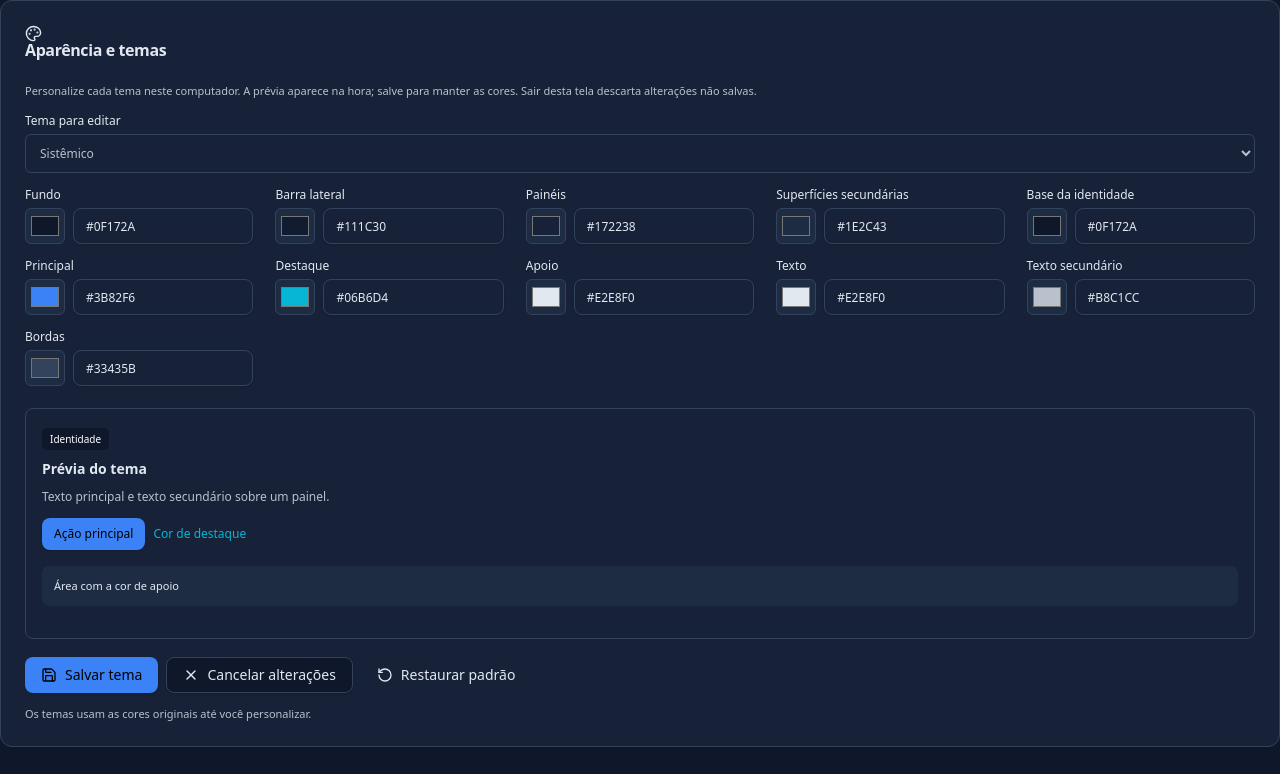
avisa contraste baixo e não afirma salvamento se o armazenamento falhar
Replace the text in the field named "Texto (HEX)" with "#172238" at (914,297), box top-left (824, 279), bottom-right (1005, 315)
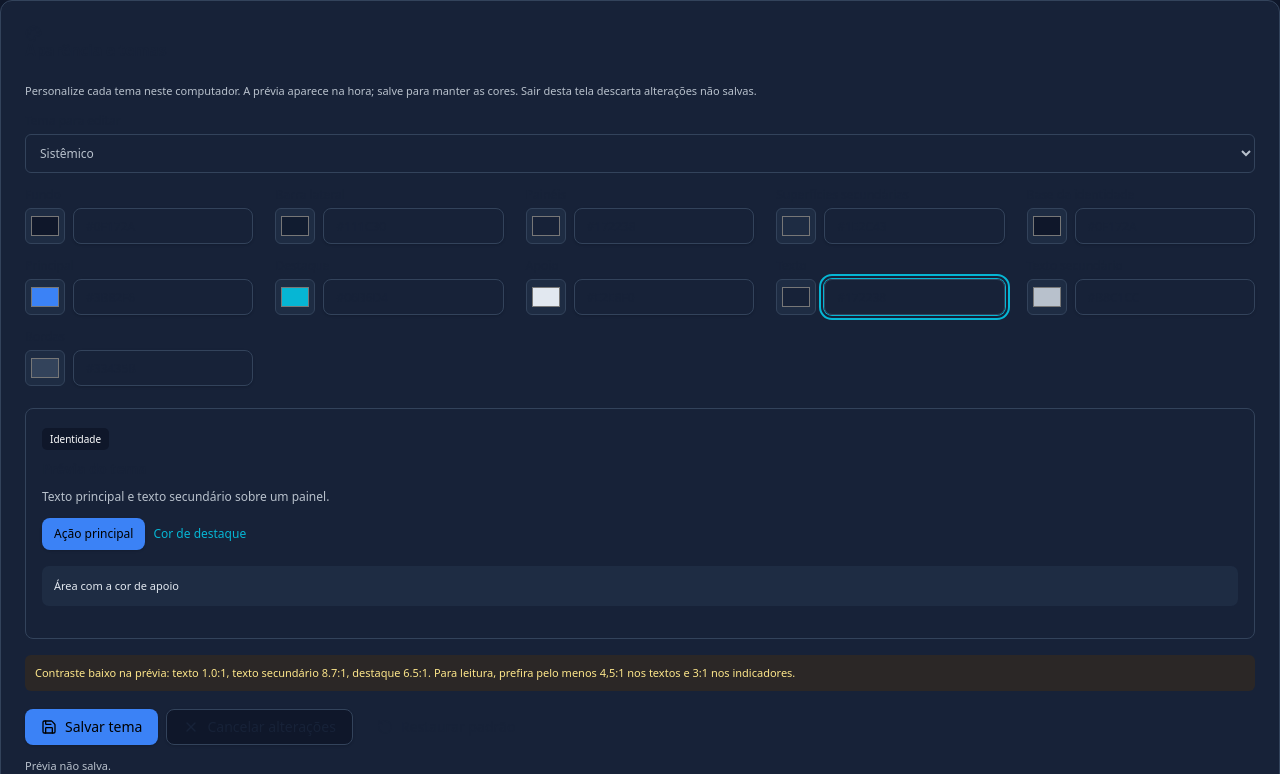
expect the text "Contraste baixo na prévia" is shown: met, box top-left (35, 665), bottom-right (202, 680)
Click the button "Salvar tema" at (92,727), box top-left (25, 709), bottom-right (158, 745)
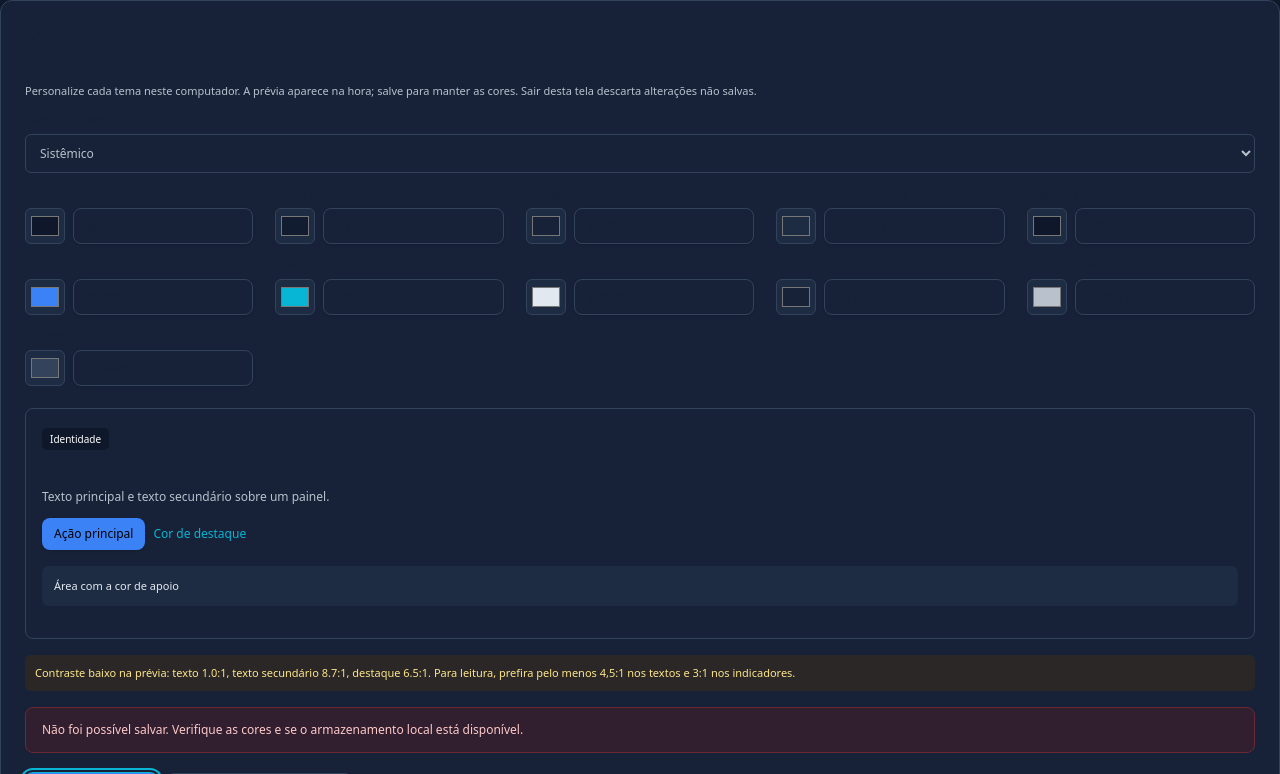
expect the 2nd message shows "Não foi possível salvar": met, box top-left (42, 721), bottom-right (523, 738)
